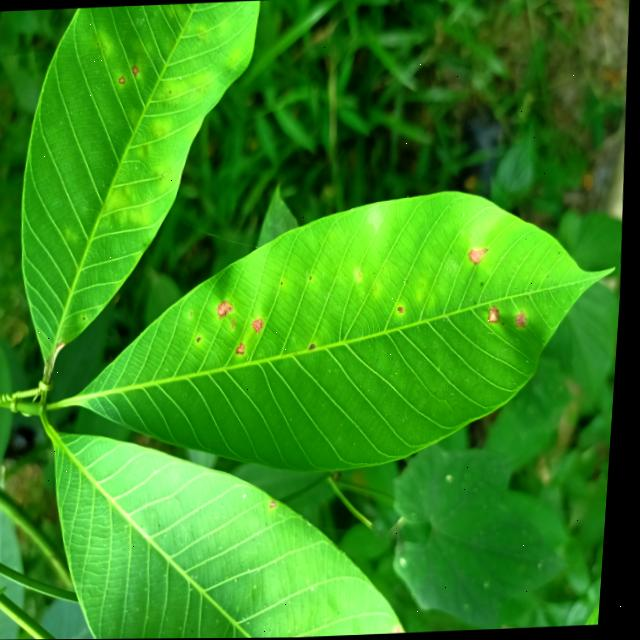Colletotrichum: (132, 65, 139, 74), (118, 76, 125, 84)
